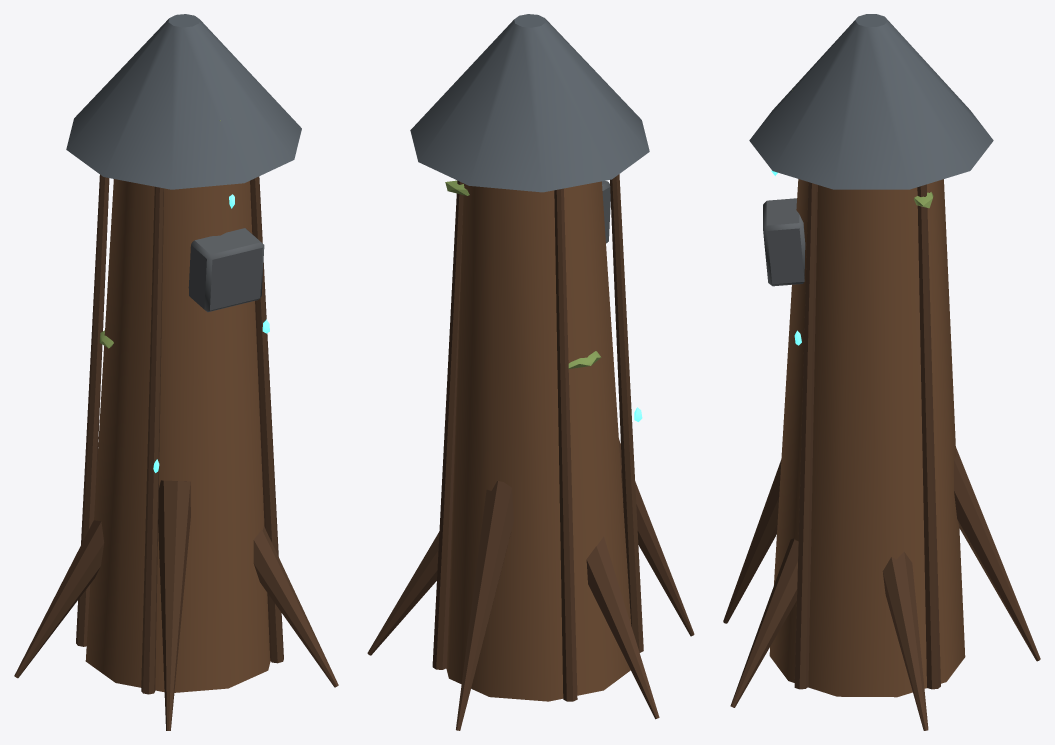
The model's file is mesh_foxfire_windmill_tower_a.glb.
3 renders of one model, left to right at view 1: azimuth 30°, elevation 25°; view 2: azimuth 150°, elevation 25°; view 3: azimuth 270°, elevation 25°, orthographic.
Visible parts, largest first — view 1: mesh_foxfire_windmill_tower_a__bark_mid, mesh_foxfire_windmill_tower_a__bark_dark, mesh_foxfire_windmill_tower_a__stone_dark, mesh_foxfire_windmill_tower_a__iron; view 2: mesh_foxfire_windmill_tower_a__bark_mid, mesh_foxfire_windmill_tower_a__bark_dark, mesh_foxfire_windmill_tower_a__stone_dark, mesh_foxfire_windmill_tower_a__moss; view 3: mesh_foxfire_windmill_tower_a__bark_mid, mesh_foxfire_windmill_tower_a__stone_dark, mesh_foxfire_windmill_tower_a__bark_dark, mesh_foxfire_windmill_tower_a__iron.
Boxes of the visible parts, x1,y1,x2,y2 form: mesh_foxfire_windmill_tower_a__bark_mid: (85, 179, 270, 692); mesh_foxfire_windmill_tower_a__bark_dark: (14, 174, 338, 730); mesh_foxfire_windmill_tower_a__stone_dark: (66, 14, 301, 189); mesh_foxfire_windmill_tower_a__iron: (188, 228, 264, 312); mesh_foxfire_windmill_tower_a__bark_mid: (446, 181, 631, 701); mesh_foxfire_windmill_tower_a__bark_dark: (367, 174, 694, 730); mesh_foxfire_windmill_tower_a__stone_dark: (410, 14, 649, 192); mesh_foxfire_windmill_tower_a__moss: (445, 180, 601, 368); mesh_foxfire_windmill_tower_a__bark_mid: (769, 179, 965, 697); mesh_foxfire_windmill_tower_a__stone_dark: (749, 14, 993, 189); mesh_foxfire_windmill_tower_a__bark_dark: (723, 182, 1040, 730); mesh_foxfire_windmill_tower_a__iron: (763, 198, 805, 286).
Size of the model in its own units: 16.28 by 35.22 by 15.69.
